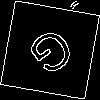G: (25, 25, 83, 86)
